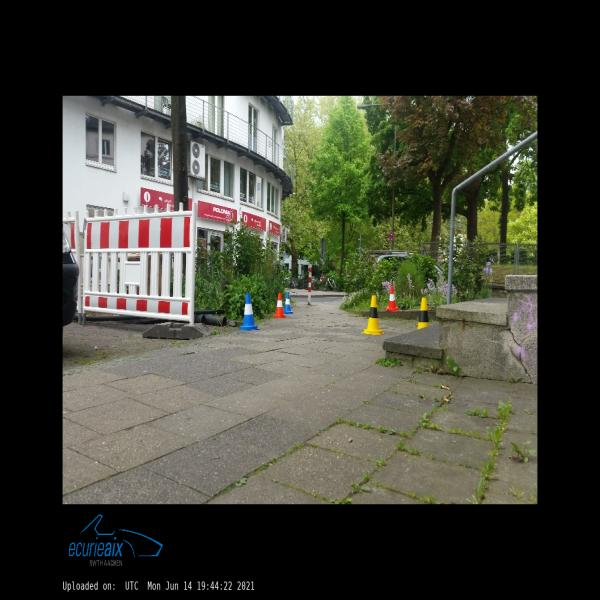blue_cone: (240, 293, 260, 330), (284, 292, 293, 313)
orange_cone: (274, 293, 286, 318), (386, 287, 398, 311)
yellow_cone: (361, 296, 384, 334), (418, 298, 429, 329)
